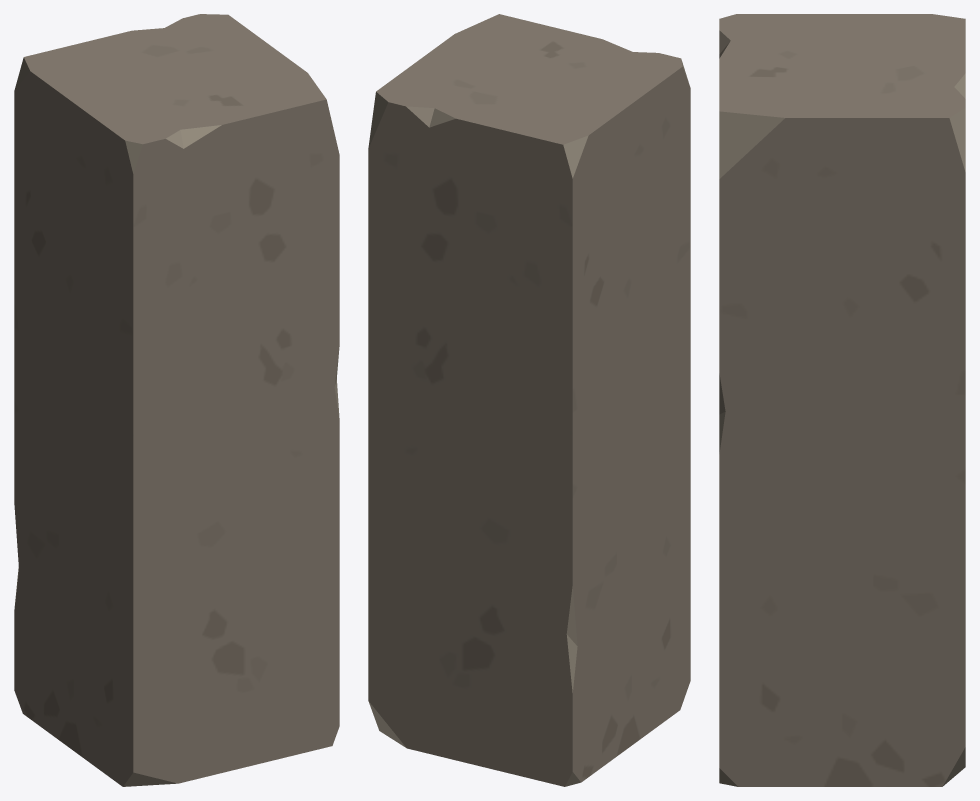
Rendered from SM_Bld_Concrete_Pillar_03.fbx.
The picture shows the model from 3 angles, left to right: view 1: azimuth 30°, elevation 25°; view 2: azimuth 150°, elevation 25°; view 3: azimuth 270°, elevation 25°; orthographic projection. The views are drawn at different scales.
Visible parts, largest first — view 1: SM_Bld_Concrete_Pillar_03; view 2: SM_Bld_Concrete_Pillar_03; view 3: SM_Bld_Concrete_Pillar_03.
Boxes of the visible parts, x1,y1,x2,y2 form: SM_Bld_Concrete_Pillar_03: (14,14,339,786); SM_Bld_Concrete_Pillar_03: (368,14,690,786); SM_Bld_Concrete_Pillar_03: (719,14,965,786).
Bounding box in the file's own units: 100 × 300 × 100.
